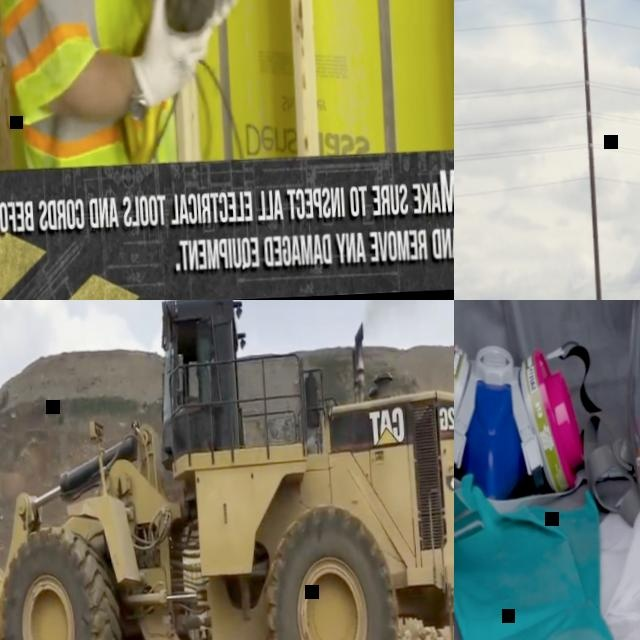Mask: (454, 301, 631, 529)
Person: (0, 0, 249, 168)
Safety Vest: (0, 0, 201, 171)
machinery: (0, 300, 454, 640)
